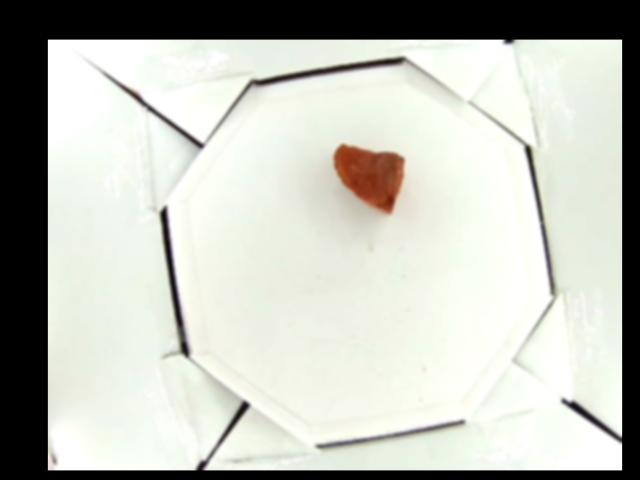Brisk: (333, 144, 405, 211)
